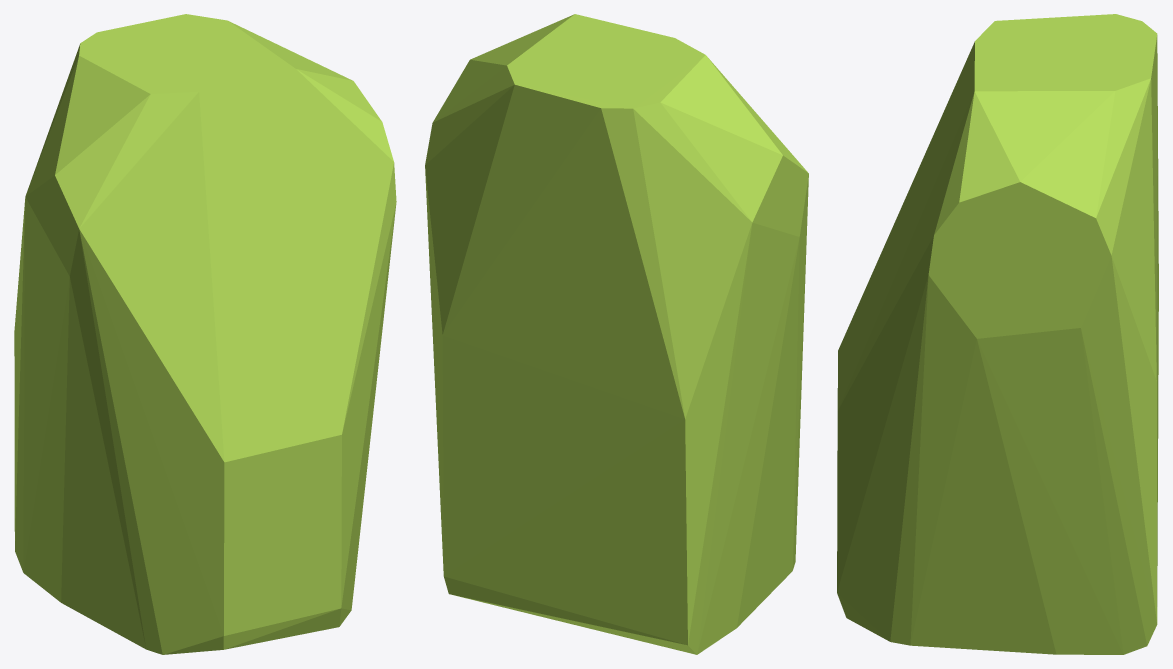
The model's file is niryo_one_Link_5_coll_1.dae.
The picture shows the model from 3 angles, left to right: view 1: azimuth 30°, elevation 25°; view 2: azimuth 150°, elevation 25°; view 3: azimuth 270°, elevation 25°; orthographic projection. The views are drawn at different scales.
Parts seen in each view (by area): view 1: Node_00000276BF53A2F0; view 2: Node_00000276BF53A2F0; view 3: Node_00000276BF53A2F0.
Part boxes in pixels (x1,y1,x2,y2): Node_00000276BF53A2F0: [14, 14, 396, 654]; Node_00000276BF53A2F0: [425, 14, 808, 654]; Node_00000276BF53A2F0: [837, 14, 1158, 654].
Size of the model in its own units: 0.0436 by 0.0717 by 0.0384.
